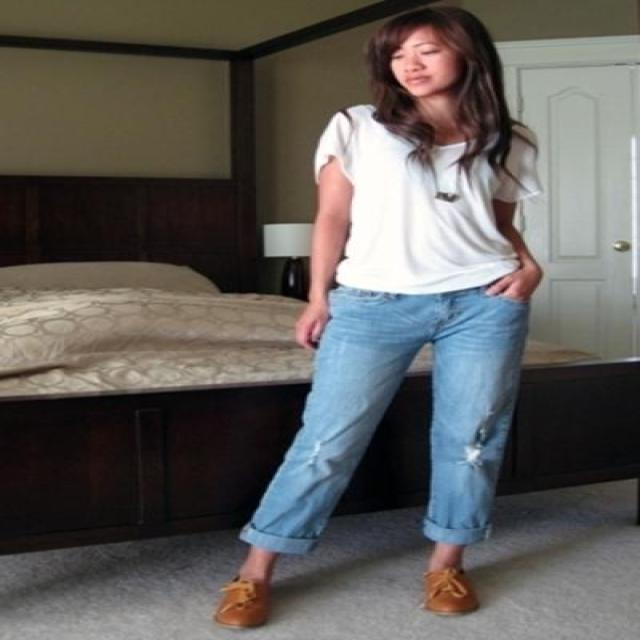pants: (240, 277, 536, 554)
shirt: (317, 104, 536, 294)
shoe: (215, 562, 490, 625)
